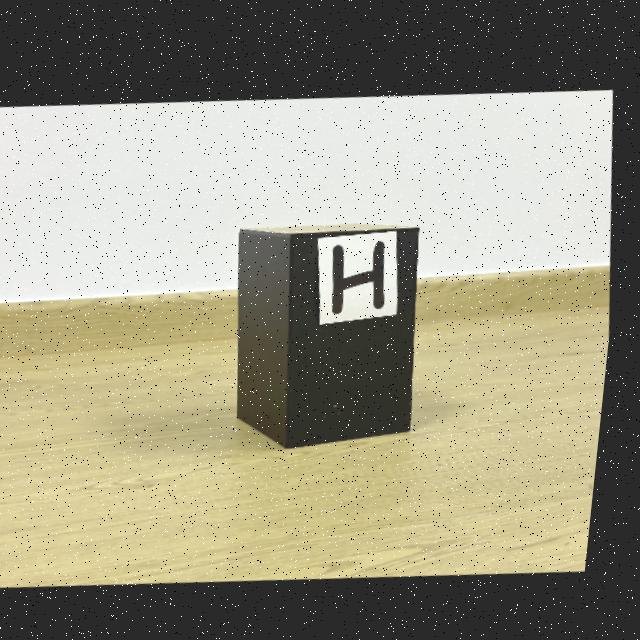H: (338, 235, 390, 309)
